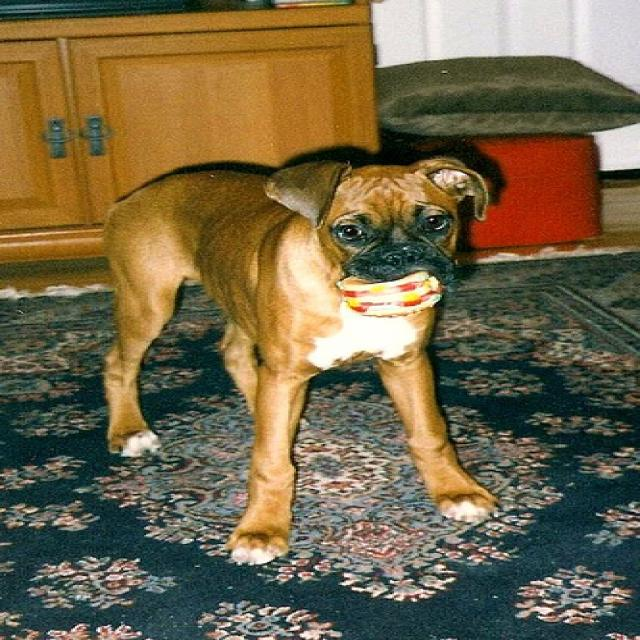dog-boxer: (88, 154, 505, 567)
